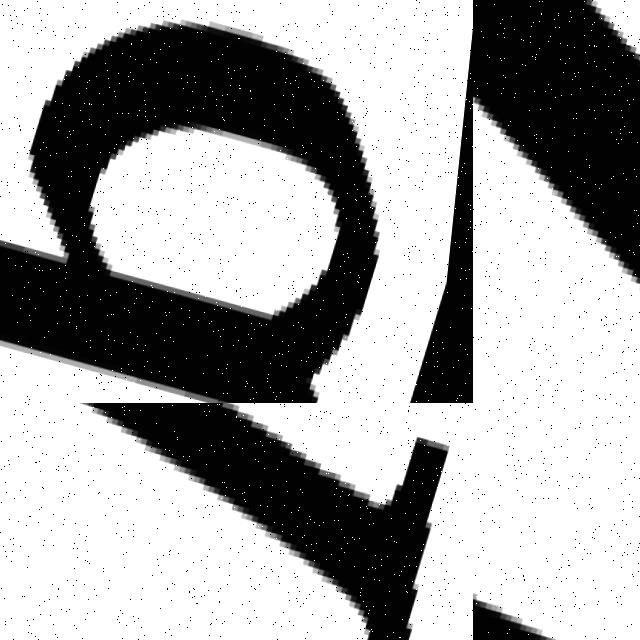1: (0, 403, 473, 640)
J: (473, 446, 640, 640)
Q: (0, 0, 455, 403)
Z: (473, 0, 640, 403)
